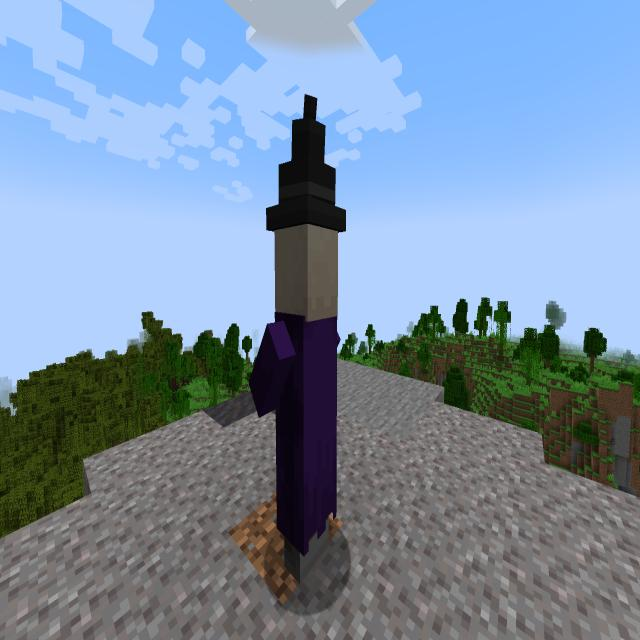Witch: (237, 80, 374, 610)
